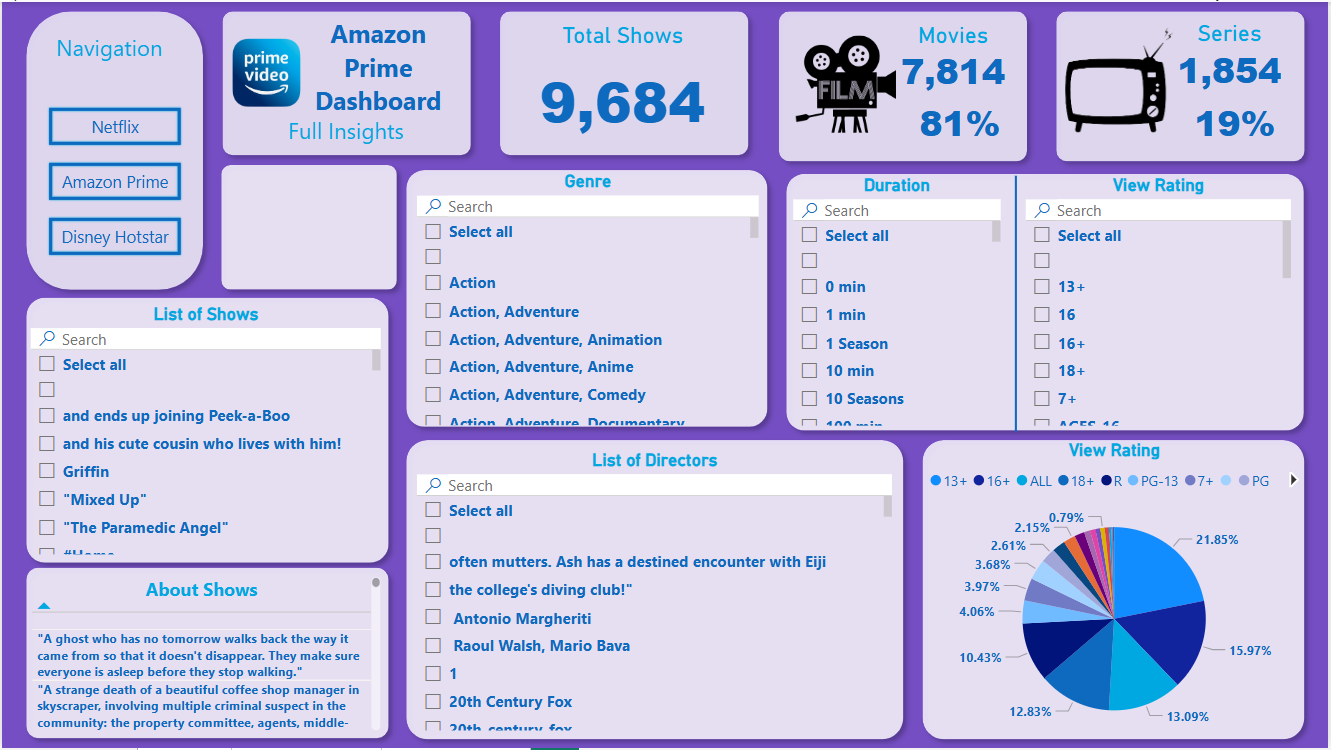

This screenshot's page, from the dashboard's own definition file:
{"tool":"powerbi","page":{"name":"Amazon Prime","canvas":[1280,720],"ordinal":1},"visuals":[{"type":"shape","box":[203.7,0.2,257.6,156.9],"z":0},{"type":"shape","box":[14,0,188.5,286.8],"z":1000},{"type":"shape","box":[471.8,0.2,257.6,156.9],"z":2000},{"type":"shape","box":[741.1,0.2,257.6,162.7],"z":3000},{"type":"shape","box":[1008,0.2,257.6,162.7],"z":4000},{"type":"textbox","box":[33,23.6,141.7,41],"z":5000},{"type":"textbox","box":[278.6,9.6,168.6,106.5],"z":6000},{"type":"textbox","box":[215.4,103.3,231.8,39.8],"z":7000},{"type":"card","title":"Total Shows","fields":{"Values":["All Measures.Shows Prime"]},"box":[484.7,19,228.3,124.1],"z":8000},{"type":"card","title":"Movies","fields":{"Values":["All Measures.Movies Prm"]},"box":[853.5,19,130,71.4],"z":9000},{"type":"card","title":"Male","fields":{"Values":["All Measures.% movies prm"]},"box":[869.9,90.4,108.9,52.7],"z":10000},{"type":"card","title":"Series","fields":{"Values":["All Measures.Series Prm"]},"box":[1119.2,18.7,130,71.4],"z":11000},{"type":"card","title":"Male","fields":{"Values":["All Measures.% series prm"]},"box":[1135.5,90.1,108.9,52.7],"z":12000},{"type":"image","box":[758.6,27.2,111.2,103],"z":13000},{"type":"image","box":[1020.9,19,115.9,111.2],"z":14000},{"type":"image","box":[203.7,23.6,101.9,90.1],"z":15000},{"type":"actionButton","box":[43.6,99.7,131.1,39.8],"z":16000},{"type":"actionButton","box":[43.6,153.6,131.1,39.8],"z":17000},{"type":"actionButton","box":[43.6,206.3,131.1,39.8],"z":18000},{"type":"shape","box":[202.5,148.7,187.3,138.1],"z":19000},{"type":"shape","box":[748.1,156.9,517.5,265.8],"z":20000},{"type":"shape","box":[879.2,413.3,386.3,306.7],"z":21000},{"type":"pieChart","title":"View Rating","fields":{"Y":["CountNonNull(amazon_prime_titles.title)"],"Category":["amazon_prime_titles.rating"]},"box":[890.9,422.6,366.4,297.4],"z":22000},{"type":"shape","box":[381.7,153.4,366.4,265.8],"z":23000},{"type":"shape","box":[14,276.3,367.6,274],"z":24000},{"type":"shape","box":[14,537.4,367.6,182.6],"z":25000},{"type":"shape","box":[381.7,413.3,497.6,306.7],"z":26000},{"type":"slicer","title":"List of Shows","fields":{"Values":["amazon_prime_titles.title"]},"box":[23.4,290.3,347.7,247],"z":27000},{"type":"tableEx","title":"Summary","fields":{"Values":["amazon_prime_titles.description"]},"box":[23.4,550.2,347.7,158],"z":28000},{"type":"slicer","title":"Genre","fields":{"Values":["amazon_prime_titles.listed_in"]},"box":[395.7,162.7,339.5,250.5],"z":29000},{"type":"slicer","title":"Duration","fields":{"Values":["amazon_prime_titles.duration"]},"box":[758.6,166.2,209.6,247],"z":30000},{"type":"slicer","title":"View Rating","fields":{"Values":["amazon_prime_titles.rating"]},"box":[983.4,166.2,265.8,247],"z":31000},{"type":"shape","box":[962.3,167.4,31.6,247],"z":32000},{"type":"slicer","title":"List of Directors","fields":{"Values":["amazon_prime_titles.director"]},"box":[395.7,432,468.3,276.3],"z":33000}]}

Visuals, with their boxes in screenshot pixels (x1, y1, x2, y2), scaled from the page's 1280x720 canvas onto the 1331x750 screenshot:
shape: detection(212, 0, 480, 164)
shape: detection(15, 0, 211, 299)
shape: detection(491, 0, 758, 164)
shape: detection(771, 0, 1038, 170)
shape: detection(1048, 0, 1316, 170)
textbox: detection(34, 25, 182, 67)
textbox: detection(290, 10, 465, 121)
textbox: detection(224, 108, 465, 149)
"Total Shows" card: detection(504, 20, 741, 149)
"Movies" card: detection(888, 20, 1023, 94)
"Male" card: detection(905, 94, 1018, 149)
"Series" card: detection(1164, 19, 1299, 94)
"Male" card: detection(1181, 94, 1294, 149)
image: detection(789, 28, 904, 136)
image: detection(1062, 20, 1182, 136)
image: detection(212, 25, 318, 118)
actionButton: detection(45, 104, 182, 145)
actionButton: detection(45, 160, 182, 201)
actionButton: detection(45, 215, 182, 256)
shape: detection(211, 155, 405, 299)
shape: detection(778, 163, 1316, 440)
shape: detection(914, 431, 1316, 749)
"View Rating" pieChart: detection(926, 440, 1307, 749)
shape: detection(397, 160, 778, 437)
shape: detection(15, 288, 397, 573)
shape: detection(15, 560, 397, 749)
shape: detection(397, 431, 914, 749)
"List of Shows" slicer: detection(24, 302, 386, 560)
"Summary" tableEx: detection(24, 573, 386, 738)
"Genre" slicer: detection(411, 169, 764, 430)
"Duration" slicer: detection(789, 173, 1007, 430)
"View Rating" slicer: detection(1023, 173, 1299, 430)
shape: detection(1001, 174, 1034, 432)
"List of Directors" slicer: detection(411, 450, 898, 738)
